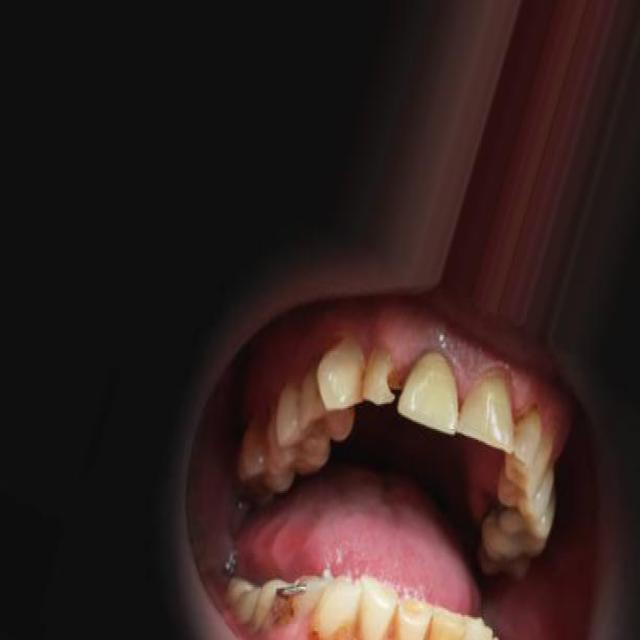caries: (383, 355, 412, 401)
